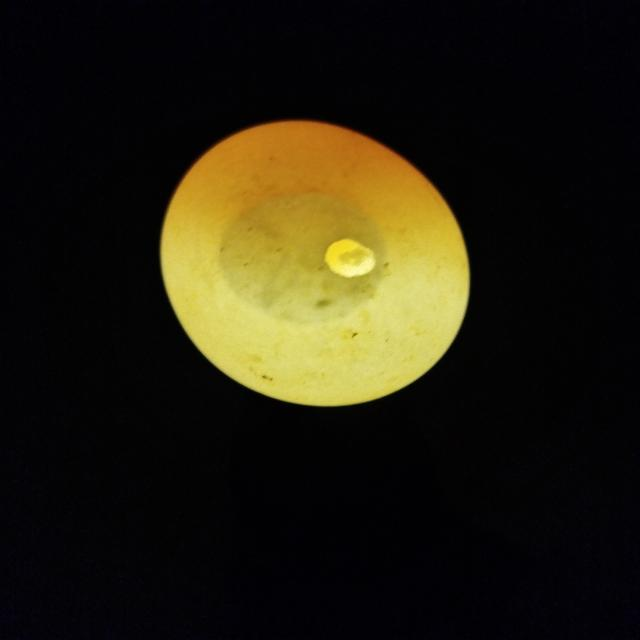Camara de Ar: (220, 192, 386, 323)
